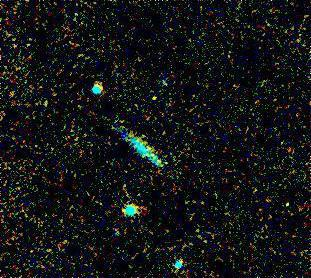star: (139, 83, 169, 113)
